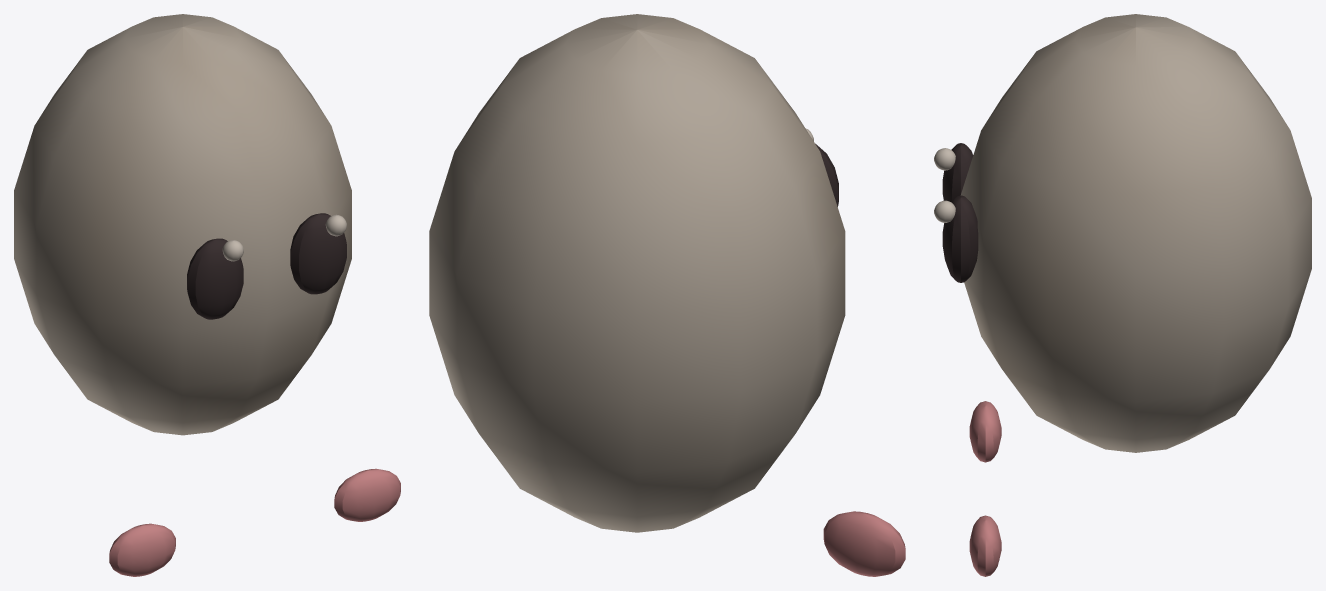
The picture shows the model from 3 angles, left to right: view 1: azimuth 30°, elevation 25°; view 2: azimuth 150°, elevation 25°; view 3: azimuth 270°, elevation 25°; orthographic projection. The views are drawn at different scales.
Visible parts, largest first — view 1: pet_p6c3f362a; view 2: pet_p6c3f362a; view 3: pet_p6c3f362a.
Part boxes in pixels (<box>): pet_p6c3f362a: <box>14,14,400,576</box>; pet_p6c3f362a: <box>429,14,905,576</box>; pet_p6c3f362a: <box>934,14,1311,576</box>.
Bounding box in the file's own units: 0.312 × 0.4768 × 0.3348.
